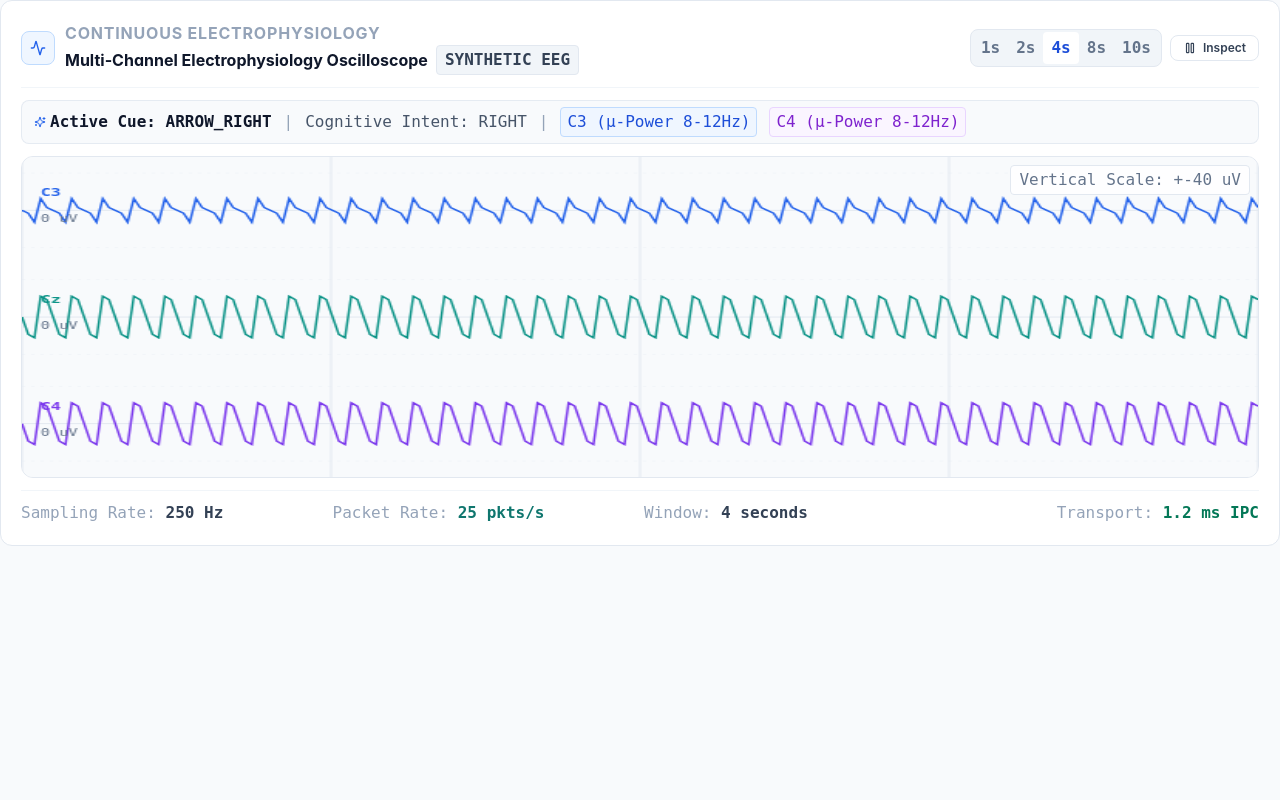
EEG Laboratory Components (Phase 07) › EEGOscilloscope › renders canvas oscilloscope, calibration tag, and inspect toggle
The width and height of the screenshot is (1280, 800).
Expected: the heading "Multi-Channel Electrophysiology Oscilloscope" is shown, top-left (65, 48), bottom-right (428, 72)
Expected: the text "Vertical Scale: +-40 uV" is shown, top-left (1010, 165), bottom-right (1250, 195)
Note: Click inspect button to pause
Click the button "Inspect" at x=1214, y=48, box top-left (1170, 35), bottom-right (1259, 61)
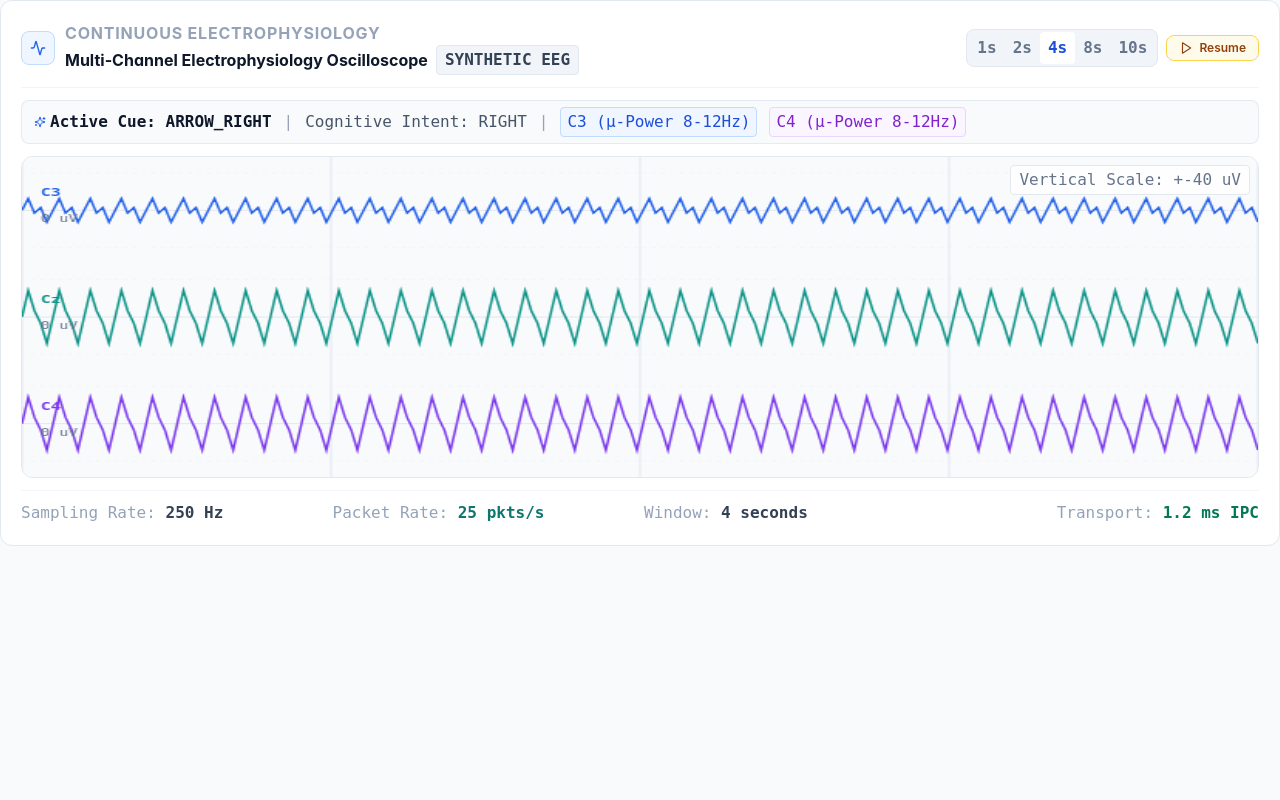
Now the button "Resume" is shown, box top-left (1166, 35), bottom-right (1259, 61)
